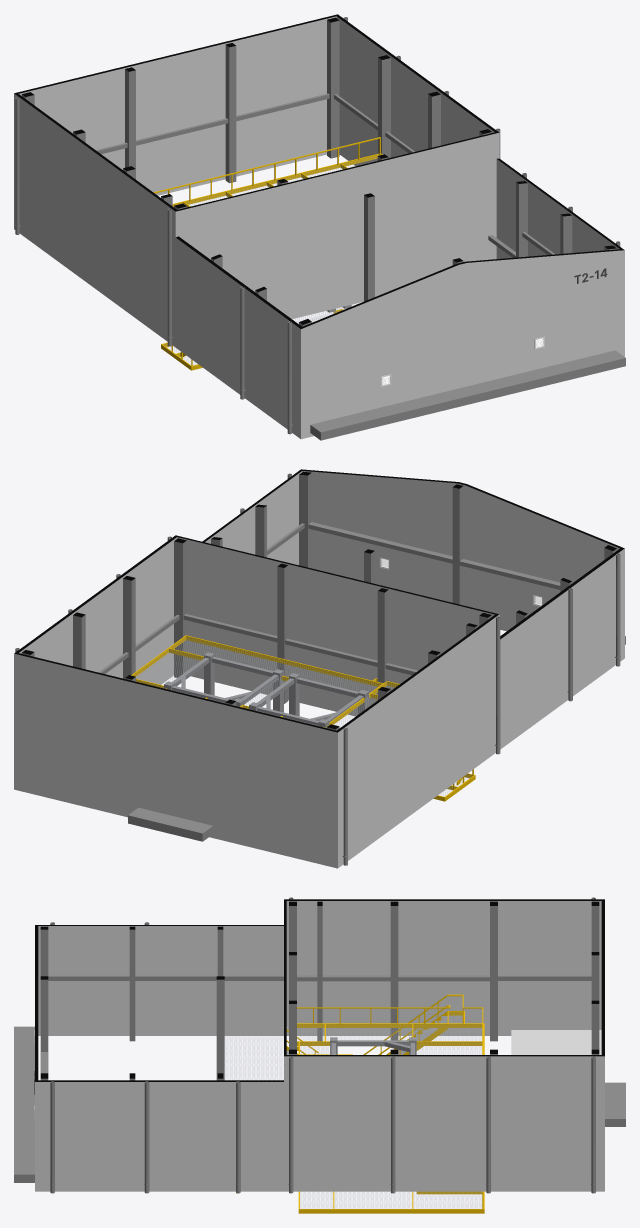
The model's file is soulbrain_T2-14-1F-1.glb.
3 views of the same model, one above another, from view 1: azimuth 30°, elevation 25°; view 2: azimuth 150°, elevation 25°; view 3: azimuth 270°, elevation 25° (orthographic).
Parts seen in each view (by area): view 1: Line008, T2-14-1F-1; view 2: Line008, T2-14-1F-1; view 3: Line008, T2-14-1F-1, Rectangle002.
Boxes of the visible parts, x1,y1,x2,y2 form: Line008: (14,14,625,440); T2-14-1F-1: (15,17,620,434); Line008: (14,469,625,868); T2-14-1F-1: (15,473,620,865); Line008: (14,899,625,1191); T2-14-1F-1: (50,897,596,1213); Rectangle002: (225,1036,283,1193).
Bounding box in the file's own units: 16.9 × 8.1 × 27.1.
Materials: 10 (1 with a texture image).
